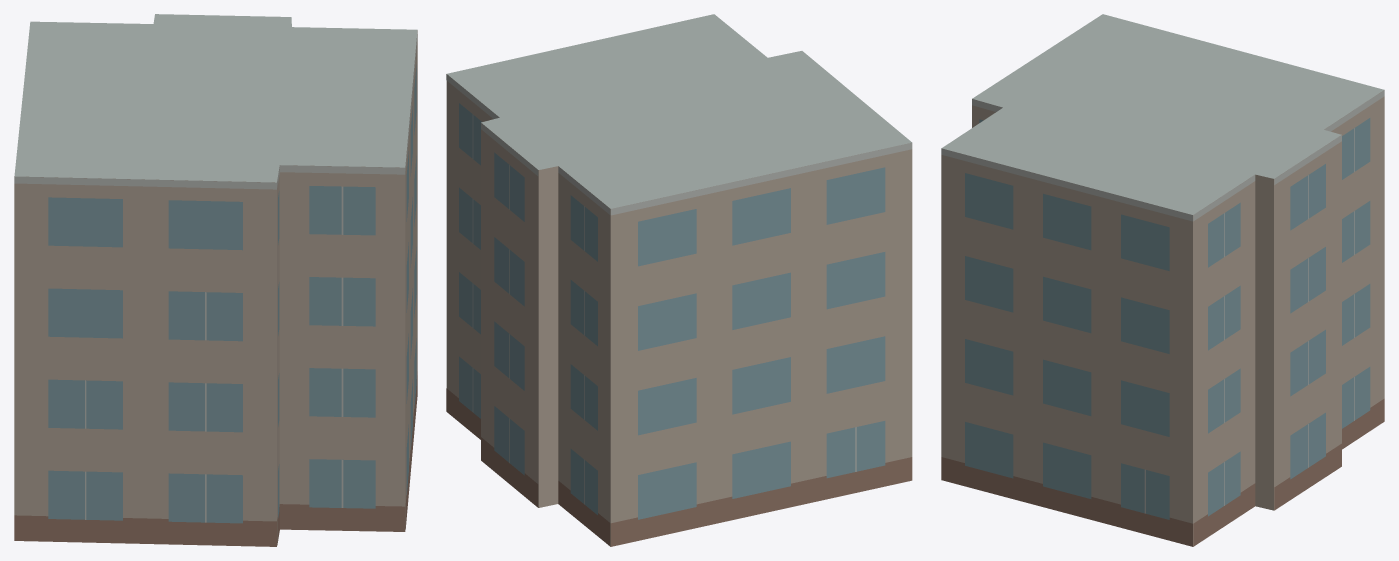
Rendered from survey-upis-32524895.glb.
The picture shows the model from 3 angles, left to right: view 1: azimuth 30°, elevation 25°; view 2: azimuth 150°, elevation 25°; view 3: azimuth 270°, elevation 25°; orthographic projection. The views are drawn at different scales.
Parts seen in each view (by area): view 1: survey-upis-32524895.tmp; view 2: survey-upis-32524895.tmp; view 3: survey-upis-32524895.tmp.
Part boxes in pixels (<box>): survey-upis-32524895.tmp: <box>14,14,417,546</box>; survey-upis-32524895.tmp: <box>446,14,912,546</box>; survey-upis-32524895.tmp: <box>941,14,1384,546</box>.
Size of the model in its own units: 16.33 by 12.55 by 15.2.
